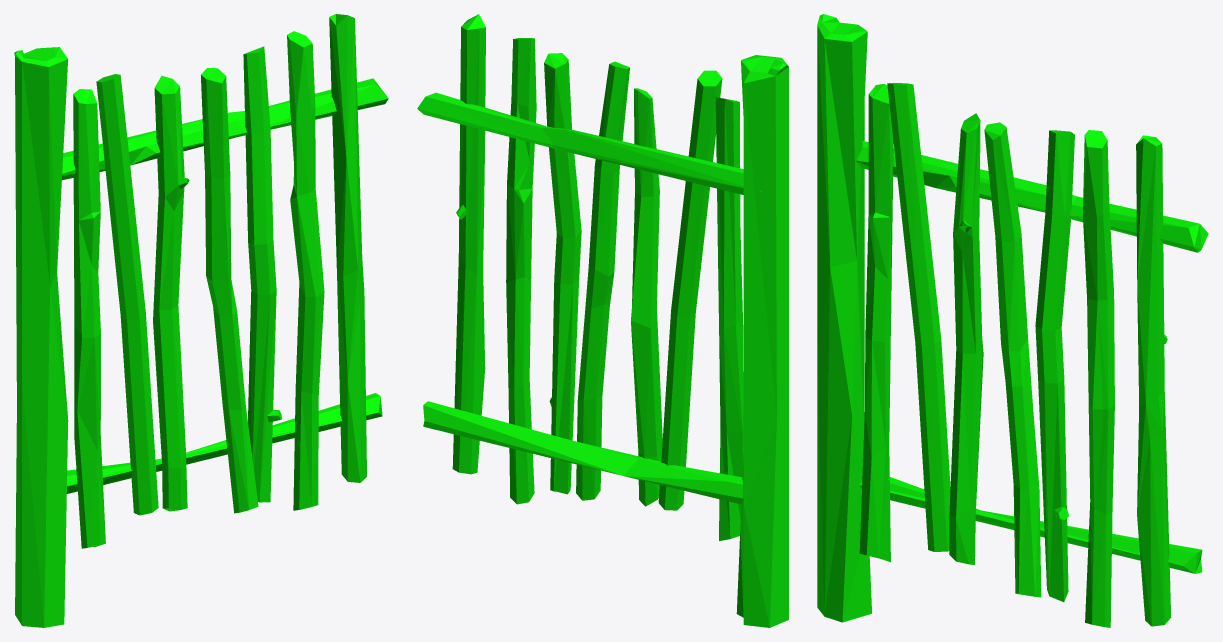
The model's file is SM_Fence_Stick_1m.fbx.
3 renders of one model, left to right at view 1: azimuth 30°, elevation 25°; view 2: azimuth 150°, elevation 25°; view 3: azimuth 330°, elevation 25°, orthographic. The views are drawn at different scales.
Parts seen in each view (by area): view 1: fence-stick-1m; view 2: fence-stick-1m; view 3: fence-stick-1m.
Part boxes in pixels (<box>): fence-stick-1m: <box>14,14,388,627</box>; fence-stick-1m: <box>417,14,788,627</box>; fence-stick-1m: <box>817,14,1208,627</box>.
Bounding box in the file's own units: 1.09 × 1.61 × 0.1673.
